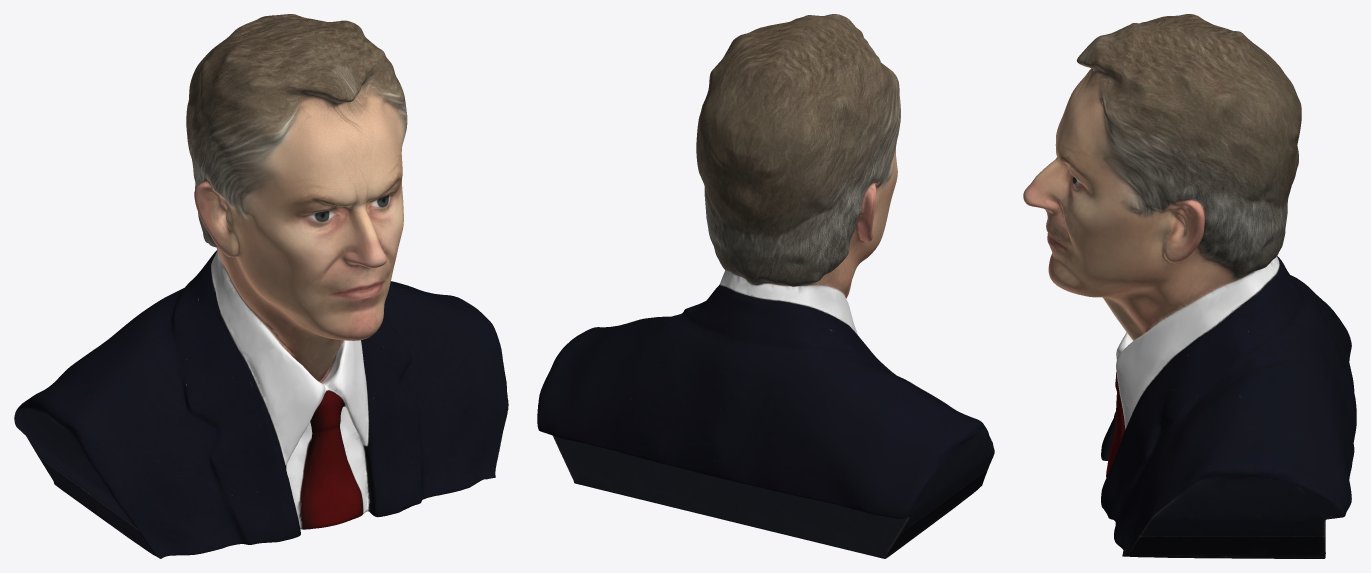
The model's file is Meshy_AI_Resolute_Statesman_compressed.glb.
3 views of the same model, side by side, from view 1: azimuth 30°, elevation 25°; view 2: azimuth 150°, elevation 25°; view 3: azimuth 270°, elevation 25° (orthographic). The views are drawn at different scales.
Size of the model in its own units: 1.79 by 1.9 by 1.27.
Materials: 1 (1 with a texture image).
